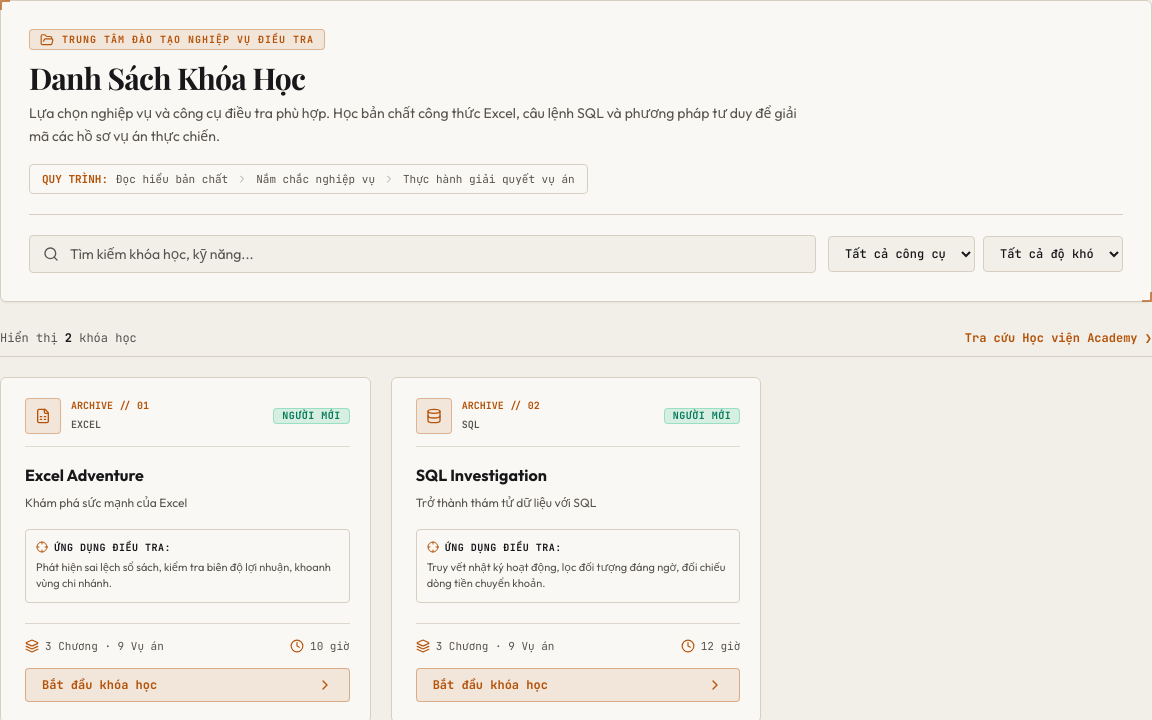
Scenario: CoursesPage Component Tests › lọc danh sách khóa học theo từ khóa tìm kiếm
Expected: the heading "Excel Adventure" is shown, x1=25 y1=465 x2=144 y2=485
# Nhập từ khóa SQL
Type "SQL" into the field with placeholder "Tìm kiếm khóa học, kỹ năng..." at (422, 254), box x1=29 y1=235 x2=816 y2=273
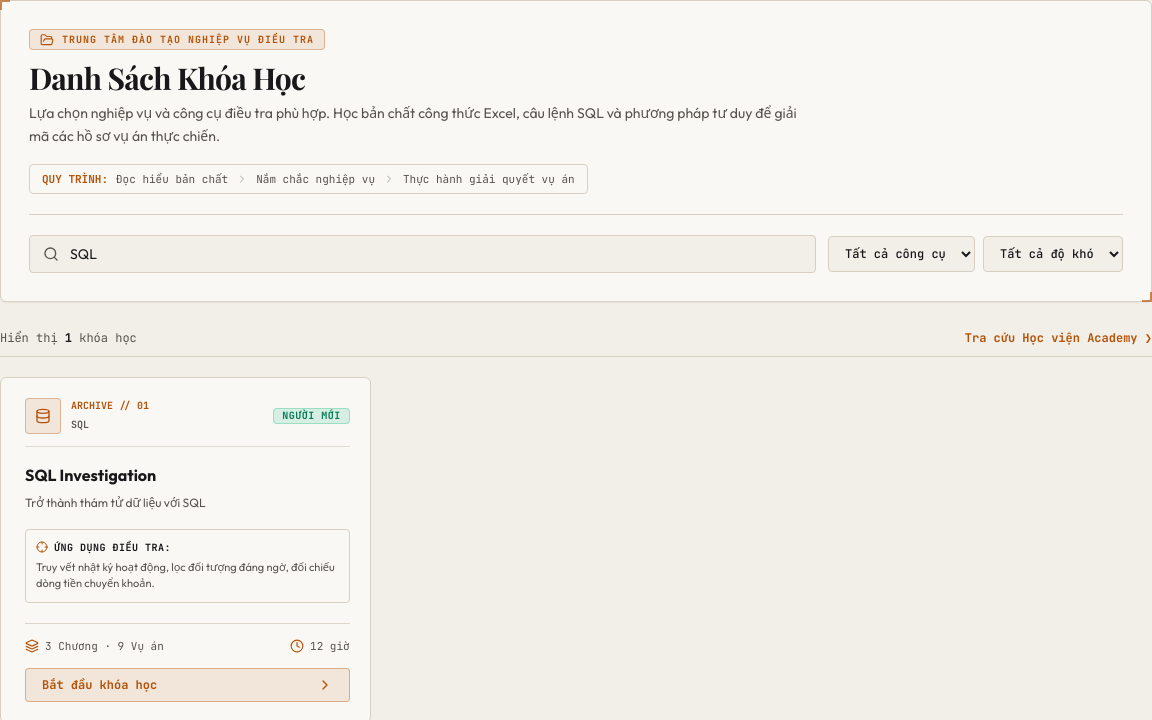
Expected: the heading "SQL Investigation" is shown, x1=25 y1=465 x2=156 y2=485
Result: the heading "Excel Adventure" is gone
